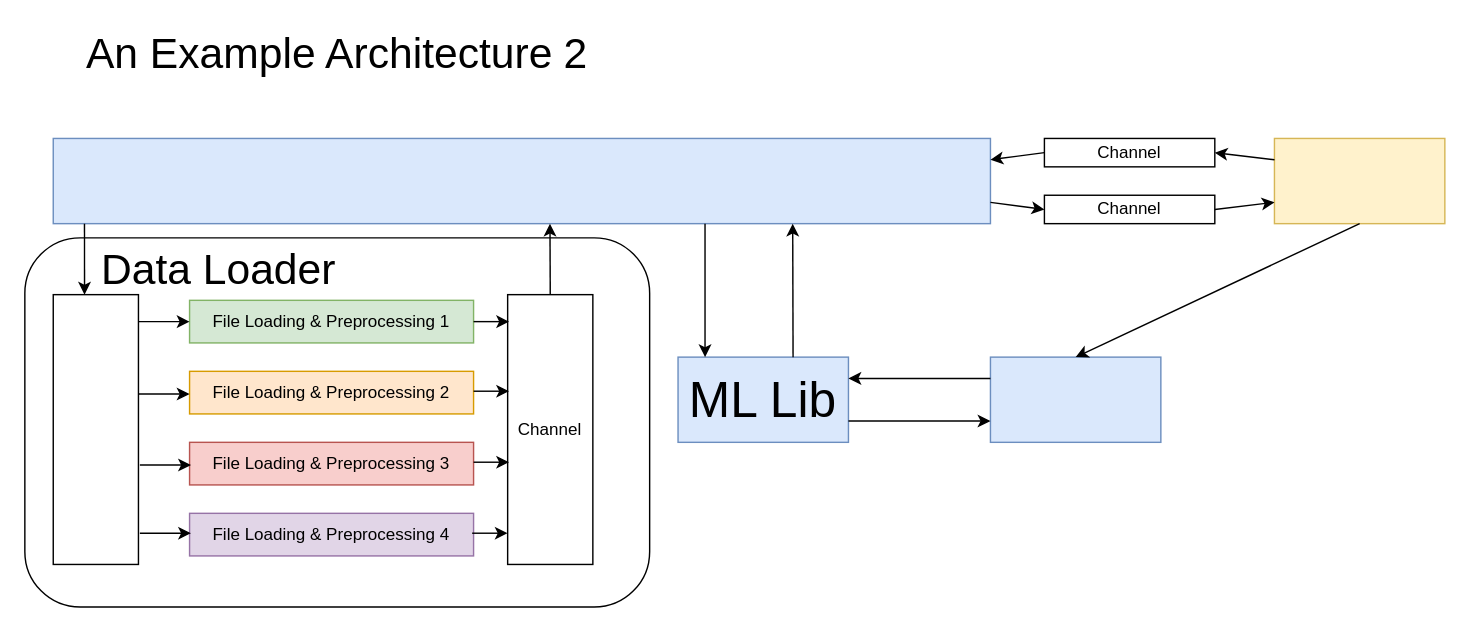
The diagram is 1470 pixels wide and 632 high, and some of its shapes have lost their labels. The shapes that lost their labels are listed below. From the top down, each one's box as (x1, y1, x2, y2) in pixels, then its label:
(52, 137, 990, 224): Main Thread & Event Loop
(1273, 137, 1445, 224): UI
(989, 356, 1161, 442): GPU
(52, 293, 138, 564): Thread-Safe Queue
